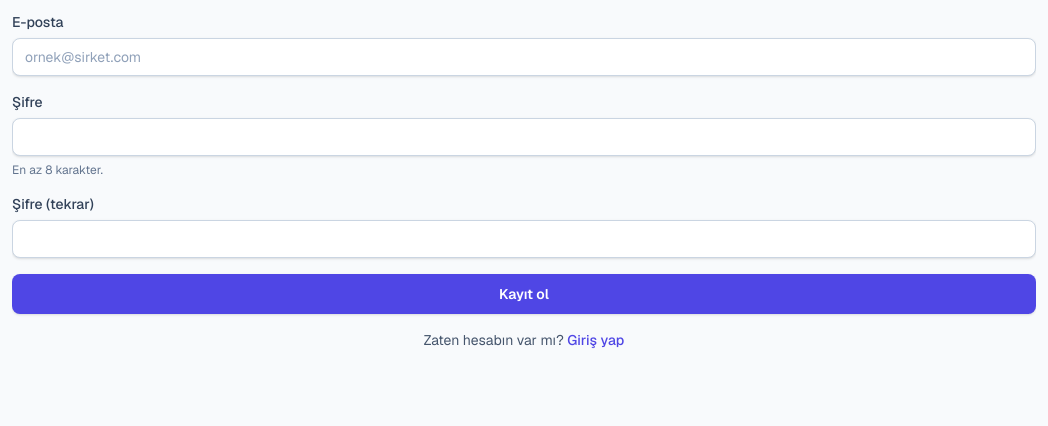
Test: SignupForm › generic auth hatası kullanıcı varlığını sızdırmadan gösterilir
The width and height of the screenshot is (1048, 426).
Type "a@b.com" into the field labelled "E-posta" at (524, 57), box [12,38,1036,76]
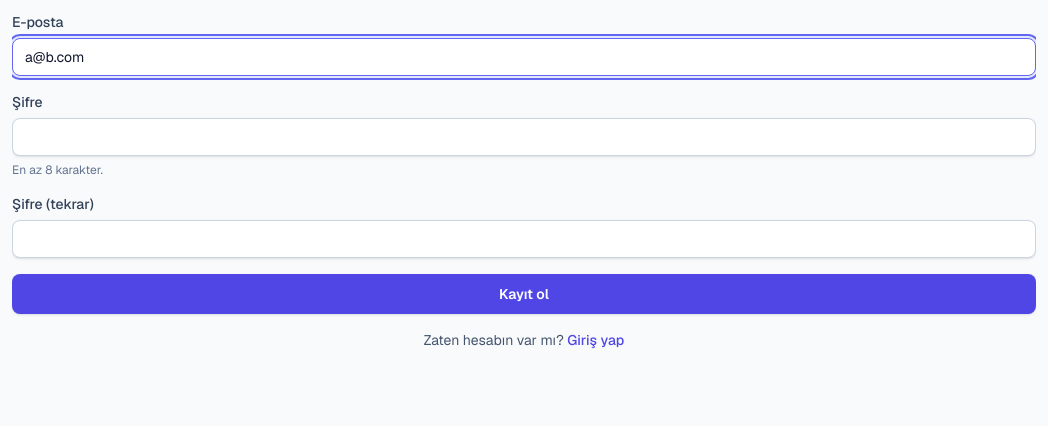
Type "yeterince-uzun" into the password field labelled "Şifre" at (524, 137), box [12,118,1036,156]
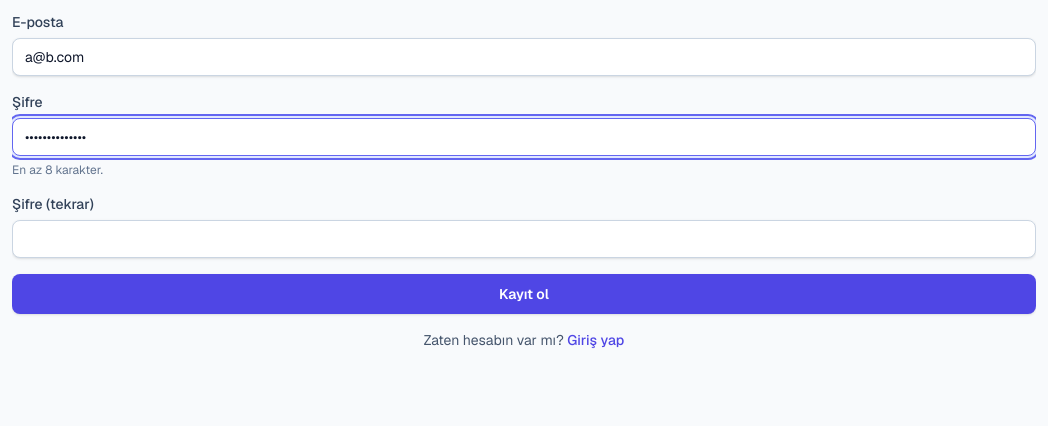
Type "farkli-sifre" into the password field labelled "Şifre (tekrar)" at (524, 239), box [12,220,1036,258]
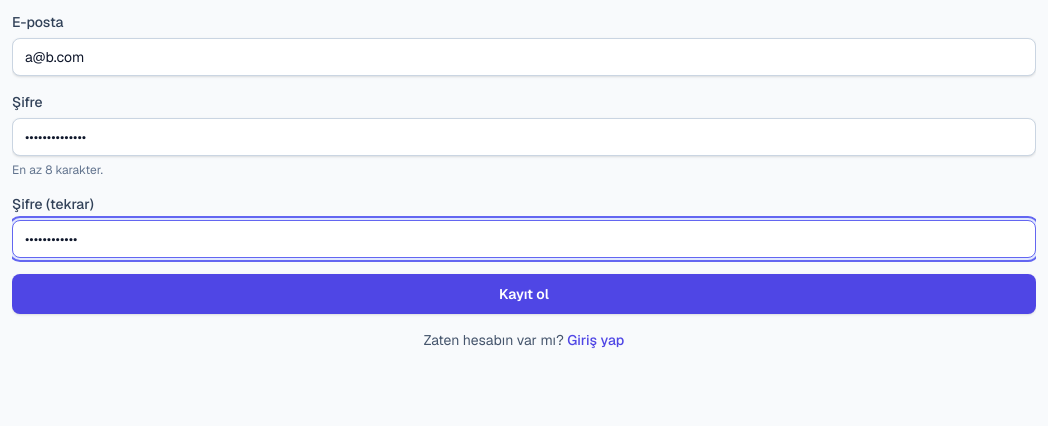
Click the button "Kayıt ol" at (524, 294), box [12,274,1036,314]
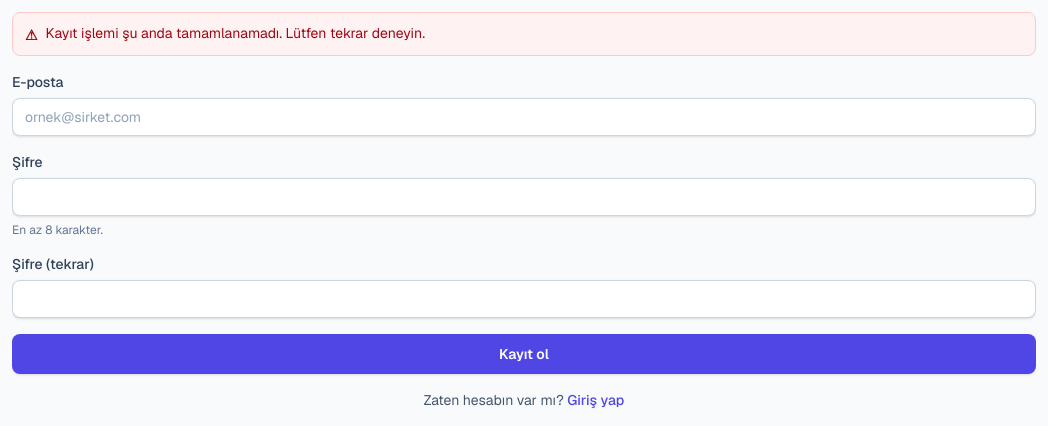
Expected: the message shows "Kayıt işlemi şu anda tamamlanamadı. Lütfen tekrar deneyin.", [46,24,425,42]
